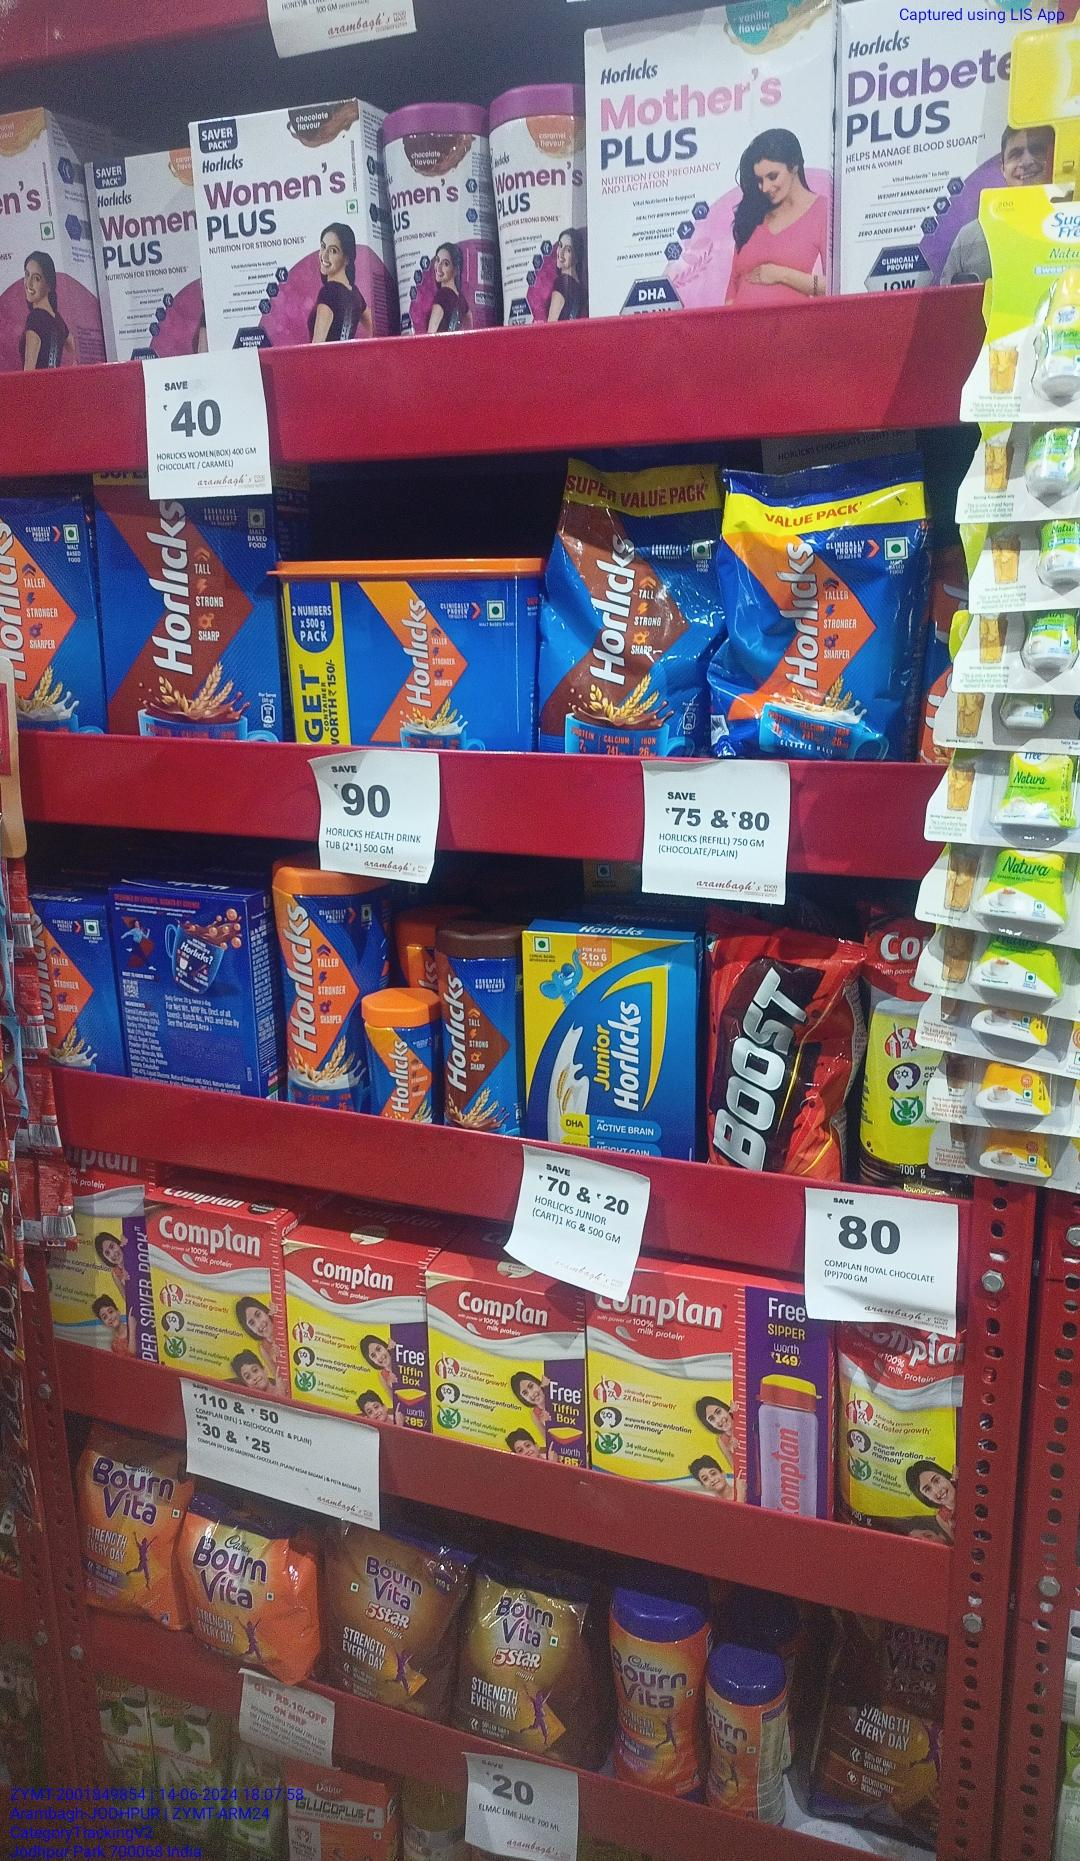BOURN_VITA_200_G_JAR: (701, 1658, 759, 1822)
BOURN_VITA_500_G_JAR: (609, 1592, 694, 1792)
BOURN_VITA_500_G_POUCH: (186, 1502, 309, 1676), (77, 1425, 180, 1628)
BOURN_VITA_FIVE_STAR_MAGIC_500_G_POUCH: (459, 1564, 584, 1749)
BOURN_VITA_FIVE_STAR_MAGIC_750_G_POUCH: (324, 1524, 454, 1714)
COMPLAN_CHOCOLATE_500_GMS_PACK: (144, 1198, 284, 1396)
COMPLAN_CREAMY_CLASSIC_500_G_PACK: (588, 1280, 743, 1499)
COMPLAN_KESAR_BADAM_200_GMS_PACK: (426, 1272, 585, 1468), (284, 1238, 424, 1427)
COMPLAN_RC_POUCH_700_GMS_12: (837, 1320, 955, 1542)
HORLICK_CHOCOLATE_500_G_JAR: (436, 930, 517, 1130)
HORLICK_CHOCOLATE_500_G_PACK: (111, 494, 273, 740)
HORLICK_CHOCOLATE_750_G_POUCH: (546, 465, 707, 753)
HORLICK_CLASSIC_MALT_200_G_JAR: (361, 995, 432, 1122)
HORLICK_CLASSIC_MALT_750_G_POUCH: (721, 472, 926, 761)
HORLICK_MALT_1_KG_CONTAINER: (282, 559, 536, 753)
